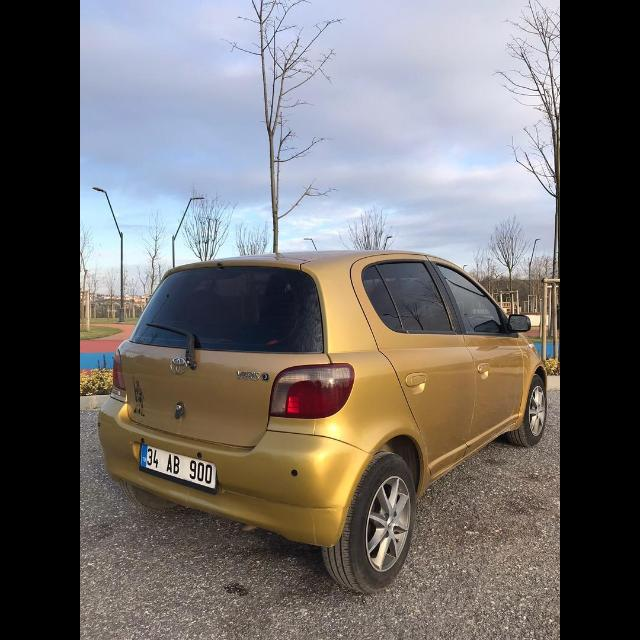Plaka: (142, 442, 216, 488)
